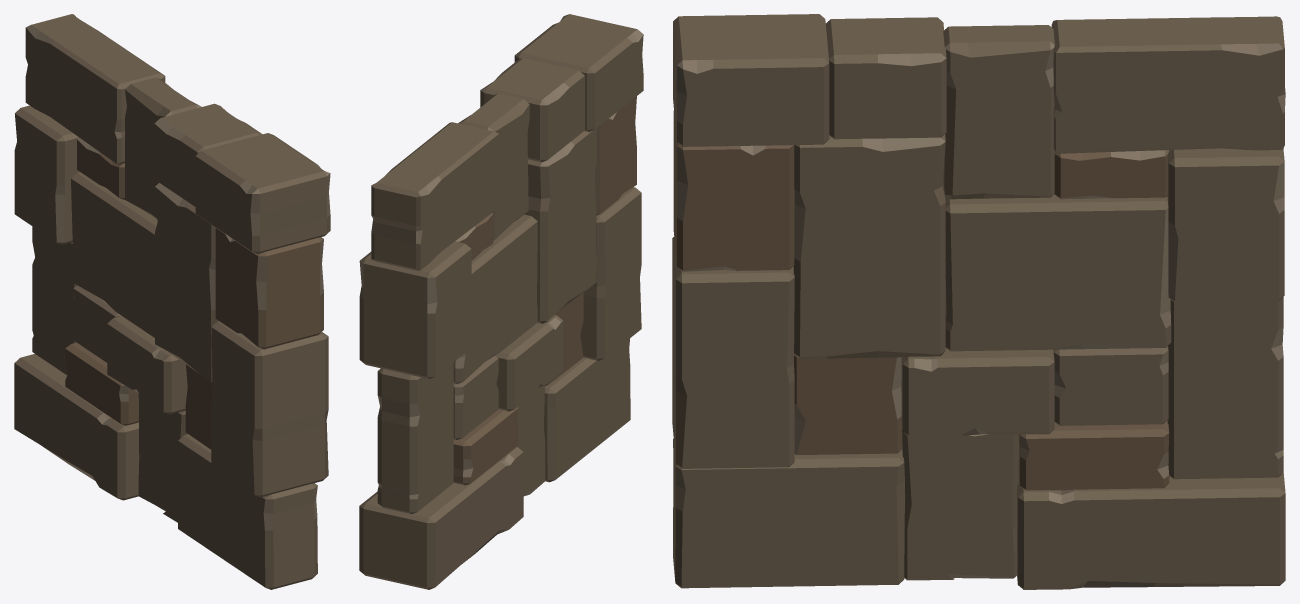
File: plaza_wall_east_7_lev3.glb
3 views of the same model, side by side, from view 1: azimuth 30°, elevation 25°; view 2: azimuth 150°, elevation 25°; view 3: azimuth 270°, elevation 25° (orthographic). The views are drawn at different scales.
Visible parts, largest first — view 1: plaza_wall_east_7_lev3; view 2: plaza_wall_east_7_lev3; view 3: plaza_wall_east_7_lev3.
Boxes of the visible parts, left/top/right/bottom form: plaza_wall_east_7_lev3: left=14, top=14, right=330, bottom=589; plaza_wall_east_7_lev3: left=359, top=14, right=643, bottom=589; plaza_wall_east_7_lev3: left=672, top=14, right=1285, bottom=589.
Size of the model in its own units: 1.44 by 6.01 by 6.22.
